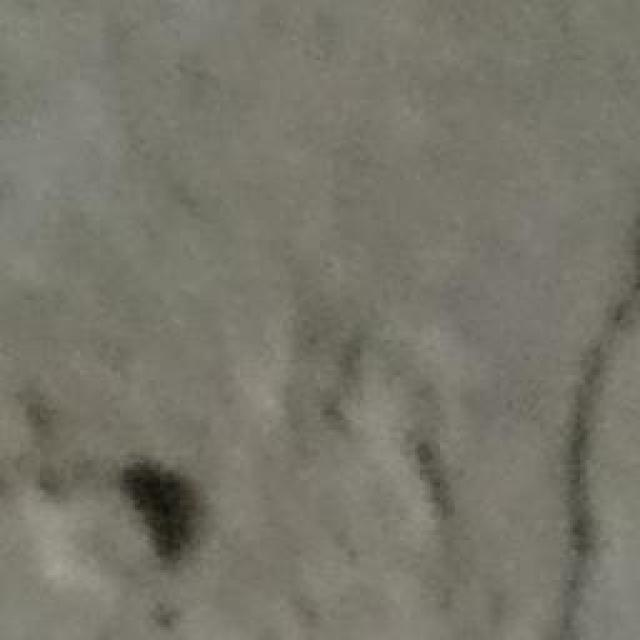Longitudinal: (553, 285, 640, 640)
